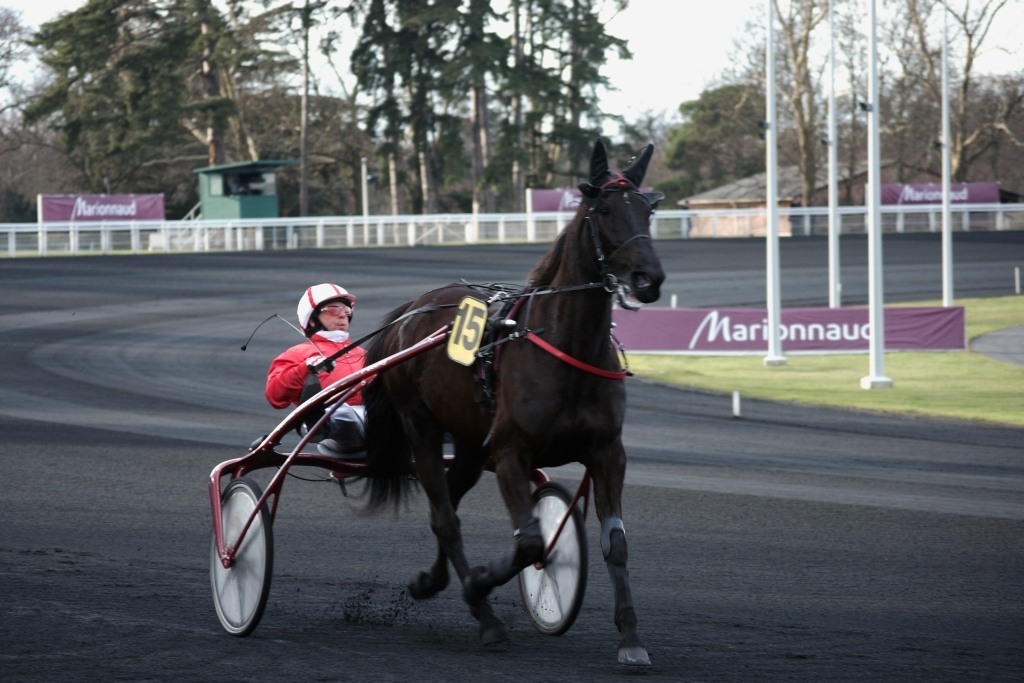horse: (340, 137, 666, 666)
